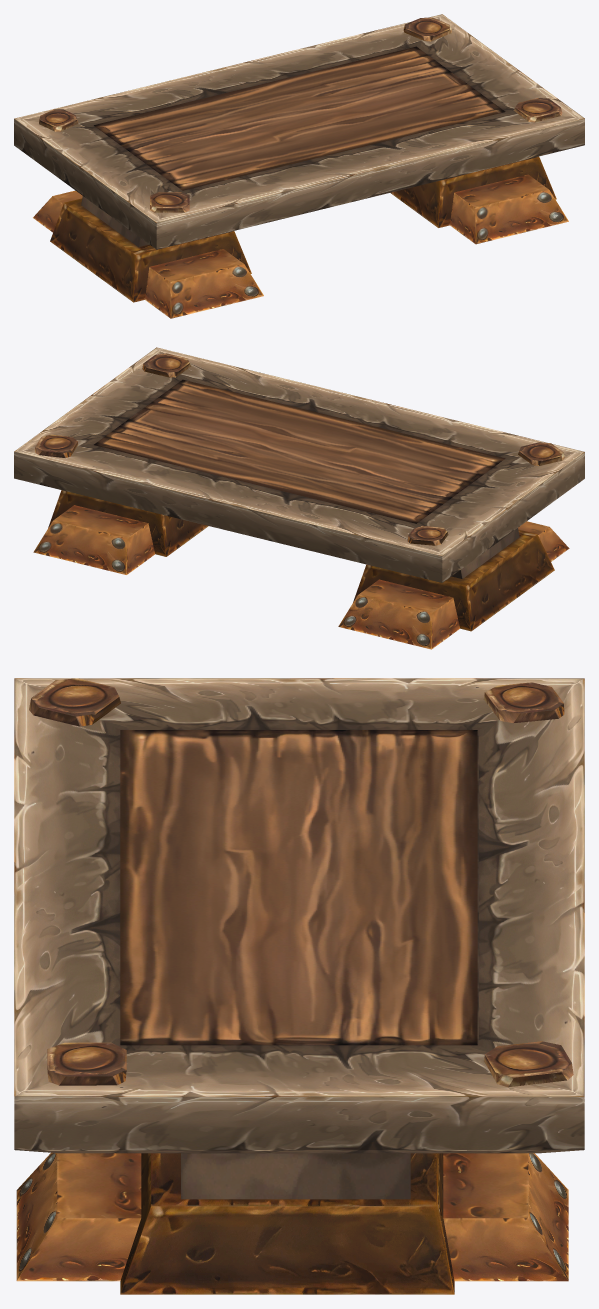
File: dwarventablelarge.obj
3 renders of one model, top to bottom at view 1: azimuth 30°, elevation 25°; view 2: azimuth 150°, elevation 25°; view 3: azimuth 270°, elevation 25°, orthographic. The views are drawn at different scales.
Visible parts, largest first — view 1: dwarventablelarge; view 2: dwarventablelarge; view 3: dwarventablelarge.
Part boxes in pixels (bbox=[...]): dwarventablelarge: bbox=[14, 14, 584, 318]; dwarventablelarge: bbox=[14, 347, 584, 649]; dwarventablelarge: bbox=[14, 678, 584, 1294].
Size of the model in its own units: 4.31 by 1 by 2.48.
Materials: 1 (1 with a texture image).
